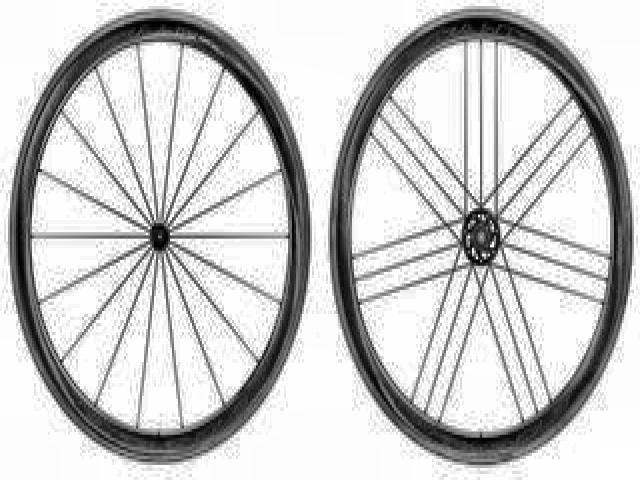wheel: (327, 7, 632, 462), (8, 10, 312, 466)
